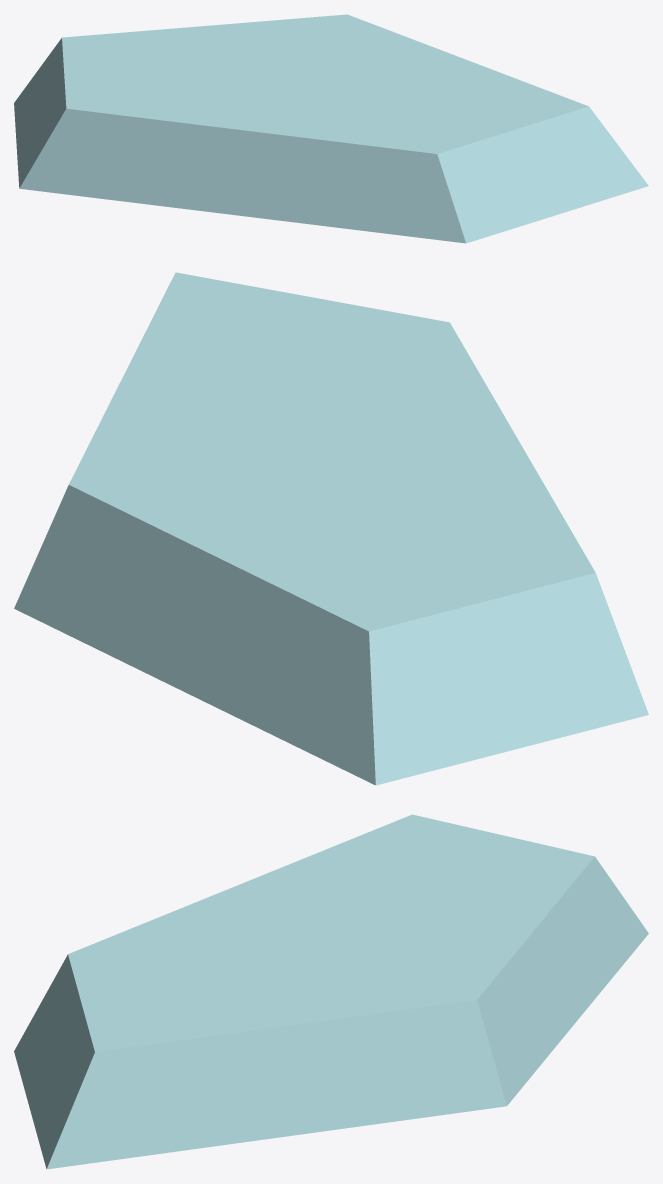
File: stone_smallFlatB.glb
3 renders of one model, top to bottom at view 1: azimuth 30°, elevation 25°; view 2: azimuth 150°, elevation 25°; view 3: azimuth 270°, elevation 25°, orthographic. The views are drawn at different scales.
Visible parts, largest first — view 1: stone_smallFlatB; view 2: stone_smallFlatB; view 3: stone_smallFlatB.
Boxes of the visible parts, x1,y1,x2,y2 form: stone_smallFlatB: [14, 14, 648, 243]; stone_smallFlatB: [14, 272, 648, 785]; stone_smallFlatB: [14, 814, 648, 1169].
Bounding box in the file's own units: 0.4295 × 0.0649 × 0.4024.
